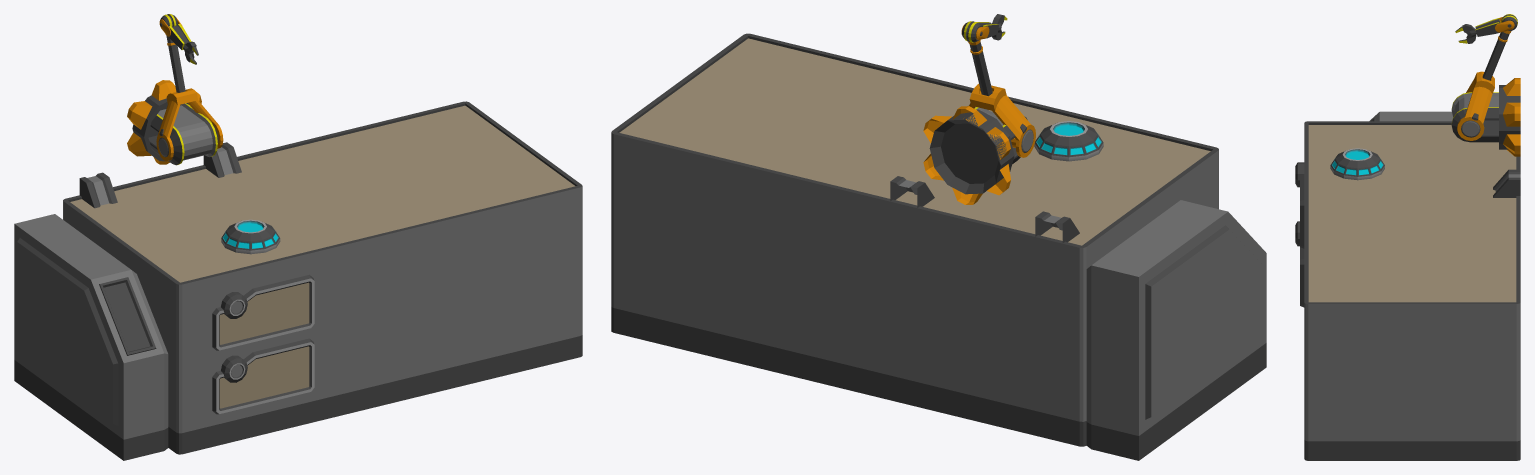
The model's file is desk.fbx.
3 renders of one model, left to right at view 1: azimuth 30°, elevation 25°; view 2: azimuth 150°, elevation 25°; view 3: azimuth 270°, elevation 25°, orthographic. The views are drawn at different scales.
Visible parts, largest first — view 1: Workbench00, RoboArm00; view 2: Workbench00, RoboArm00; view 3: Workbench00, RoboArm00.
Boxes of the visible parts, <box> form: Workbench00: <box>14,101,582,460</box>; RoboArm00: <box>127,14,223,165</box>; Workbench00: <box>611,33,1266,460</box>; RoboArm00: <box>923,14,1035,204</box>; Workbench00: <box>1295,111,1520,460</box>; RoboArm00: <box>1451,14,1520,156</box>.
Size of the model in its own units: 225 by 157 by 104.
